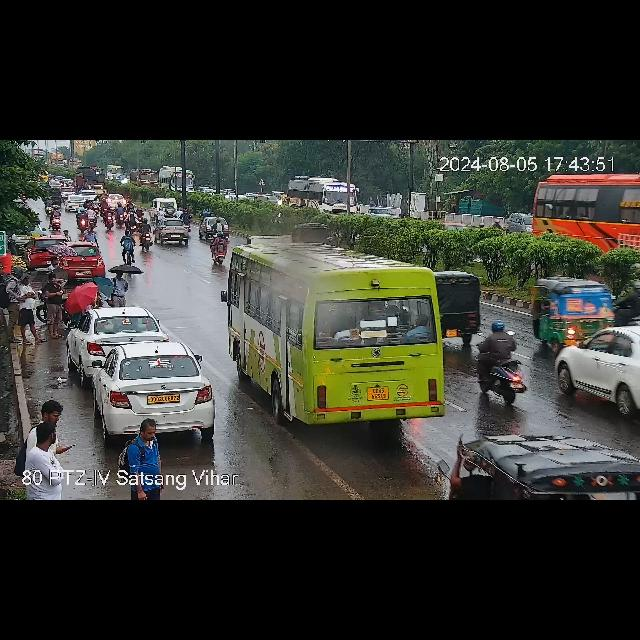bus: (222, 238, 450, 428), (531, 171, 640, 254), (284, 178, 360, 210), (160, 168, 194, 192), (107, 165, 127, 182)
car: (456, 432, 640, 500), (87, 341, 215, 435), (554, 323, 640, 431), (532, 276, 616, 354), (69, 306, 169, 366), (432, 272, 482, 341), (49, 243, 105, 281), (292, 222, 332, 246), (154, 222, 190, 245), (199, 216, 233, 236), (508, 210, 534, 233), (149, 198, 179, 216), (110, 194, 126, 202)
motorcycle: (478, 330, 528, 400), (136, 217, 154, 251), (212, 232, 228, 266), (120, 234, 136, 264), (77, 207, 89, 231), (104, 207, 115, 230), (125, 209, 136, 231)
person: (22, 399, 76, 498), (120, 420, 163, 500), (5, 274, 42, 346), (61, 280, 102, 330), (38, 276, 68, 332), (112, 264, 128, 306), (82, 228, 98, 240)
truck: (130, 168, 160, 190), (76, 167, 106, 186)
